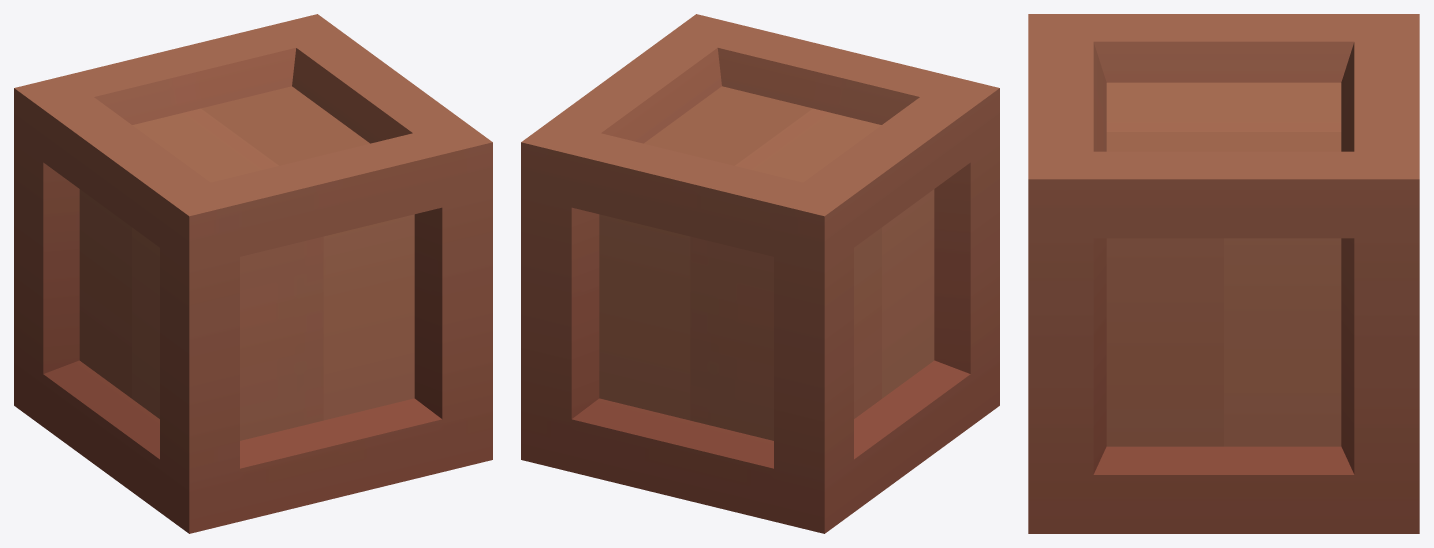
The model's file is kk_crate_v1.glb.
The picture shows the model from 3 angles, left to right: view 1: azimuth 30°, elevation 25°; view 2: azimuth 150°, elevation 25°; view 3: azimuth 270°, elevation 25°; orthographic projection. The views are drawn at different scales.
Visible parts, largest first — view 1: crate_A_big; view 2: crate_A_big; view 3: crate_A_big.
Part boxes in pixels (x1,y1,x2,y2): crate_A_big: (14, 14, 492, 533); crate_A_big: (521, 14, 999, 533); crate_A_big: (1028, 14, 1419, 533).
Bounding box in the file's own units: 0.21 × 0.21 × 0.21.
1 material, 1 textured.
